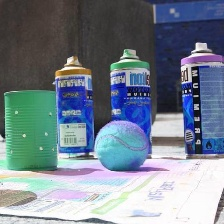aerosol_cans: (177, 40, 224, 161), (107, 45, 155, 159), (51, 51, 99, 162)
can: (0, 86, 63, 172)
